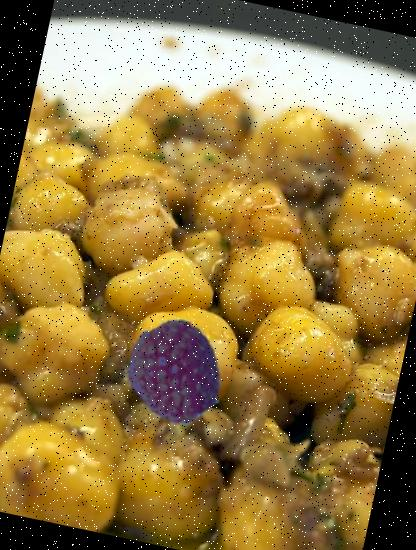Raspberry: (116, 312, 235, 431)
